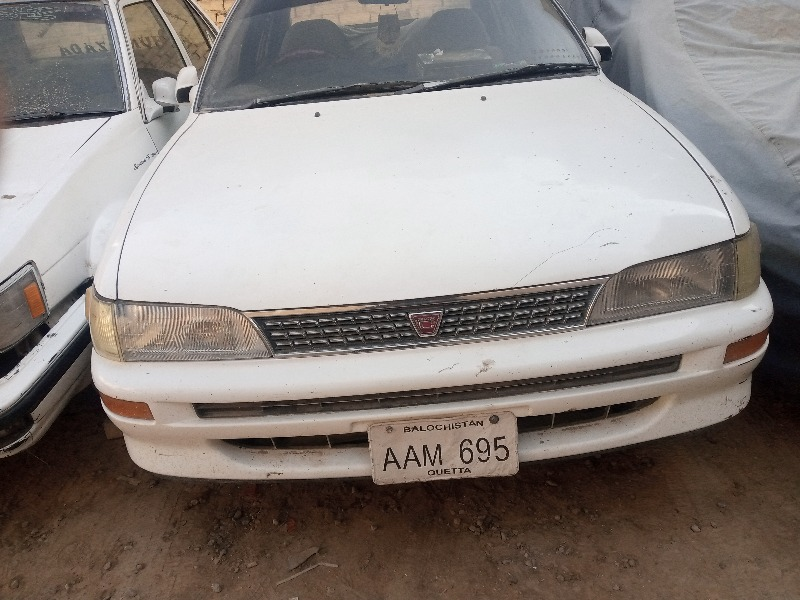License Plate: (364, 412, 529, 489)
